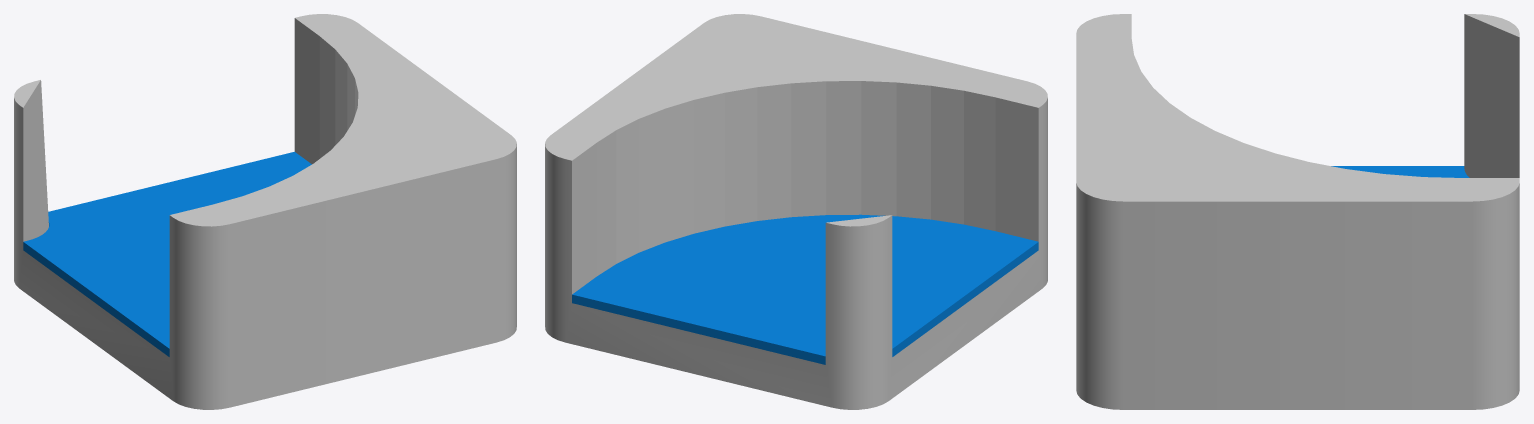
Rendered from river1.fbx.
3 views of the same model, side by side, from view 1: azimuth 30°, elevation 25°; view 2: azimuth 150°, elevation 25°; view 3: azimuth 270°, elevation 25° (orthographic). The views are drawn at different scales.
Parts seen in each view (by area): view 1: Ground.001, Ground.002; view 2: Ground.001, Ground.002; view 3: Ground.001, Ground.002.
Boxes of the visible parts, x1,y1,x2,y2 form: Ground.001: (14,14,516,409); Ground.002: (23,151,311,356); Ground.001: (545,14,1047,409); Ground.002: (572,214,1038,364); Ground.001: (1076,14,1519,409); Ground.002: (1331,166,1469,177).
Size of the model in its own units: 800 by 415 by 800.
